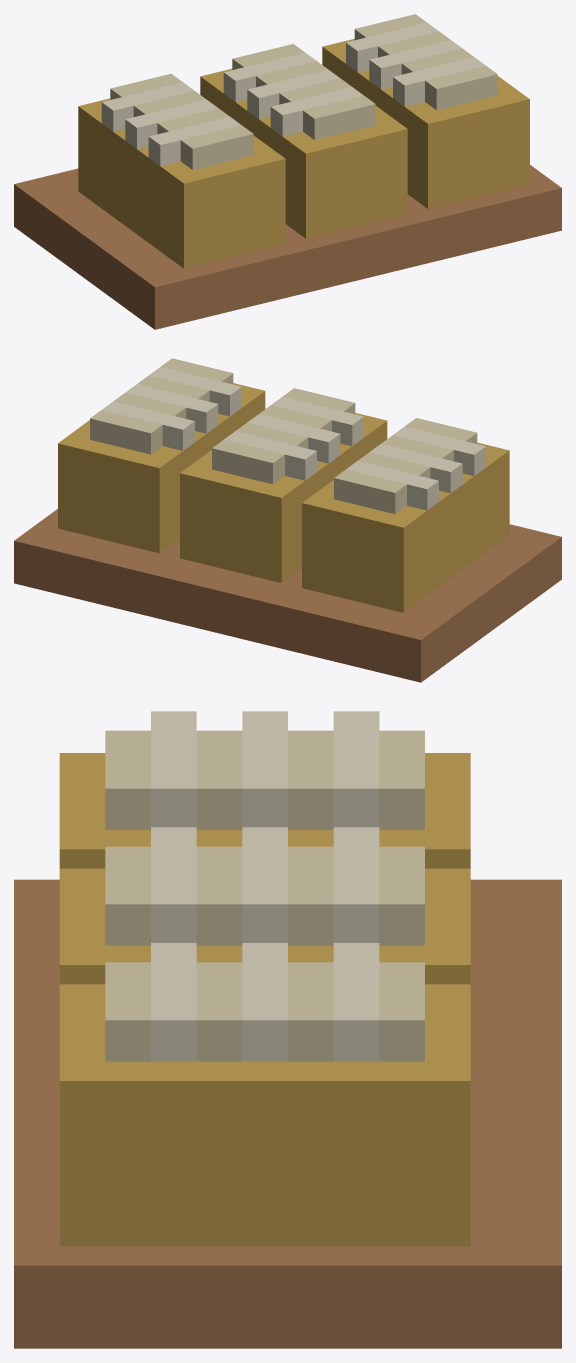
File: food-12.glb
3 views of the same model, one above another, from view 1: azimuth 30°, elevation 25°; view 2: azimuth 150°, elevation 25°; view 3: azimuth 270°, elevation 25° (orthographic). The views are drawn at different scales.
Parts seen in each view (by area): view 1: Bread basket; view 2: Bread basket; view 3: Bread basket.
Boxes of the visible parts, <box> form: Bread basket: <box>14,14,561,329</box>; Bread basket: <box>14,358,561,682</box>; Bread basket: <box>14,711,561,1348</box>.
Bounding box in the file's own units: 1.6 × 0.56 × 0.96.
